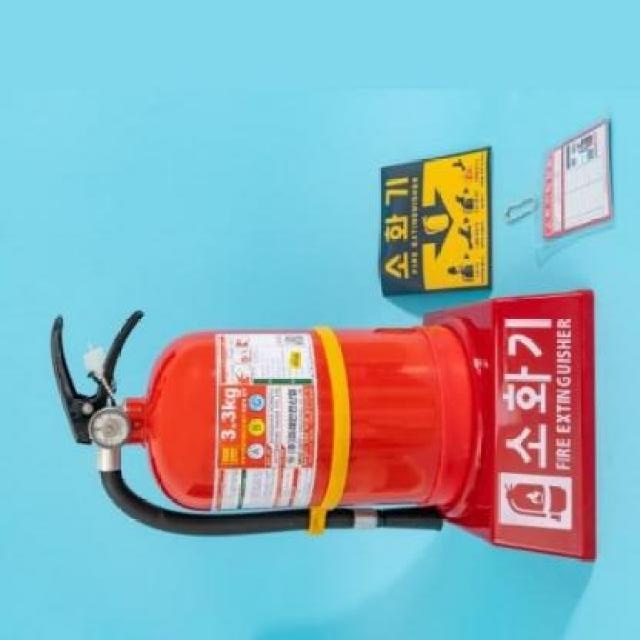fire extinguisher: (50, 311, 473, 537)
